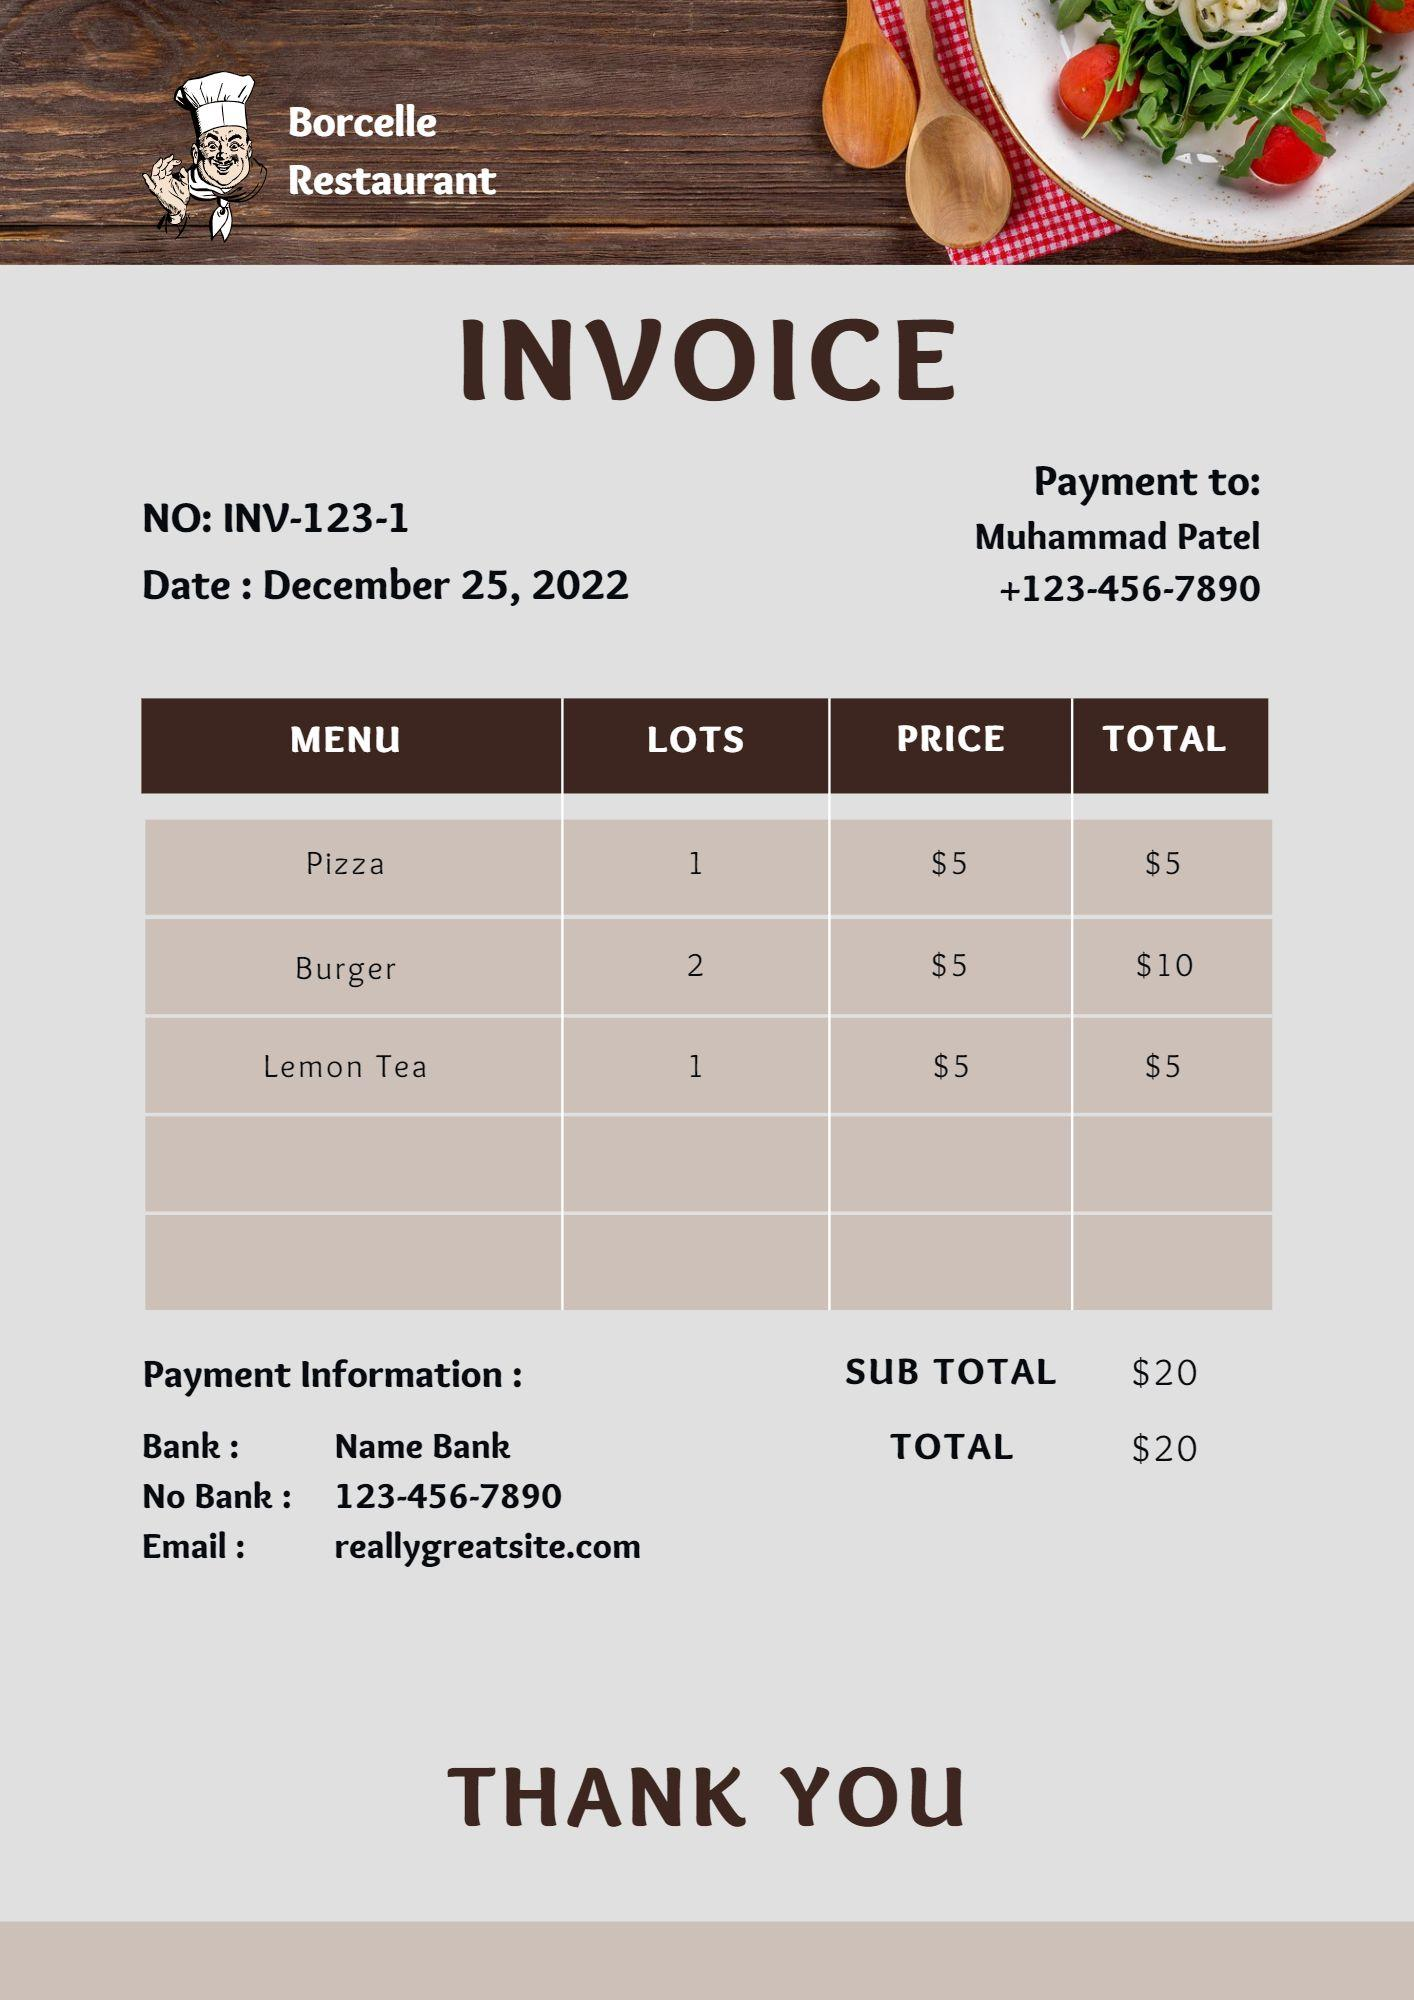ROI: (130, 682, 1293, 1328)
